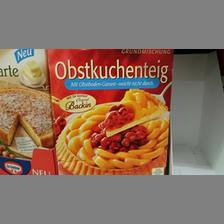Kuchen: (44, 48, 172, 174), (0, 48, 48, 176)
